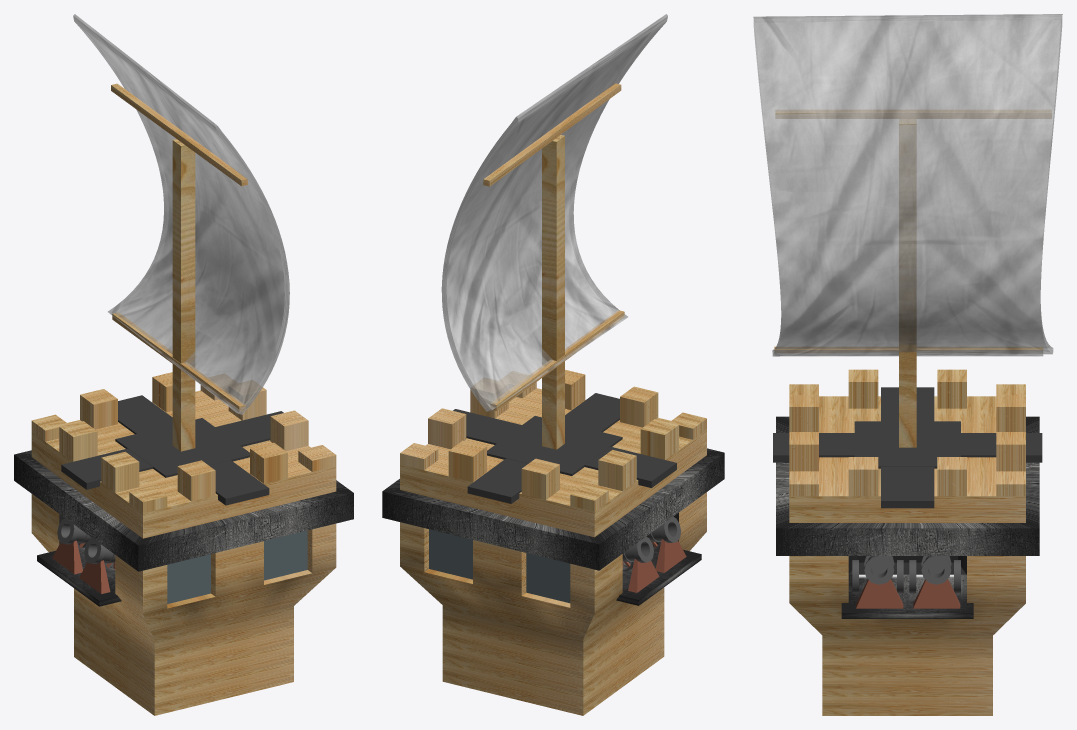
File: Корабль нах.fbx
The picture shows the model from 3 angles, left to right: view 1: azimuth 30°, elevation 25°; view 2: azimuth 150°, elevation 25°; view 3: azimuth 270°, elevation 25°; orthographic projection. The views are drawn at different scales.
Visible parts, largest first — view 1: Объект_Куб_2_35, Объект_Ноль, Объект_Куб_1_2, Объект_Куб_1, Объект_Куб_2, Объект_Куб, Объект_Куб_2_2, Булев, Булев_2, Булев_1_2, Булев_1; view 2: Объект_Куб_2_35, Объект_Ноль, Объект_Куб_1_2, Объект_Куб_1, Объект_Куб_2, Объект_Куб, Объект_Куб_2_2, Булев, Булев_2, Булев_1, Булев_1_2; view 3: Объект_Ноль, Объект_Куб_2_35, Объект_Куб_1_2, Объект_Куб_1, Объект_Куб, Объект_Куб_2, Объект_Куб_2_2, Булев_3, Булев_4, Булев_1_3, Булев_1_4.
Part boxes in pixels (x1,y1,x2,y2): Объект_Куб_2_35: (14,372,353,715); Объект_Ноль: (73,14,289,414); Объект_Куб_1_2: (172,139,195,451); Объект_Куб_1: (115,418,249,477); Объект_Куб_2: (118,395,269,505); Объект_Куб: (61,411,283,489); Объект_Куб_2_2: (37,547,121,606); Булев: (79,560,110,593); Булев_2: (52,540,82,574); Булев_1_2: (57,518,91,544); Булев_1: (84,538,115,564); Объект_Куб_2_35: (382,369,724,715); Объект_Ноль: (441,14,667,411); Объект_Куб_1_2: (542,135,564,449); Объект_Куб_1: (487,416,622,475); Объект_Куб_2: (467,393,619,503); Объект_Куб: (453,409,676,487); Объект_Куб_2_2: (616,545,701,605); Булев: (655,539,686,572); Булев_2: (628,559,659,592); Булев_1: (646,516,680,542); Булев_1_2: (622,536,653,562); Объект_Ноль: (753,14,1062,356); Объект_Куб_2_35: (776,369,1039,715); Объект_Куб_1_2: (899,119,916,447); Объект_Куб_1: (854,421,960,468); Объект_Куб: (881,387,934,508); Объект_Куб_2: (773,433,1042,462); Объект_Куб_2_2: (841,574,973,618); Булев_3: (913,579,960,608); Булев_4: (856,579,903,608); Булев_1_3: (921,556,951,584); Булев_1_4: (864,556,894,584).
Size of the model in its own units: 240 by 604 by 261.
9 materials, 4 textured.
